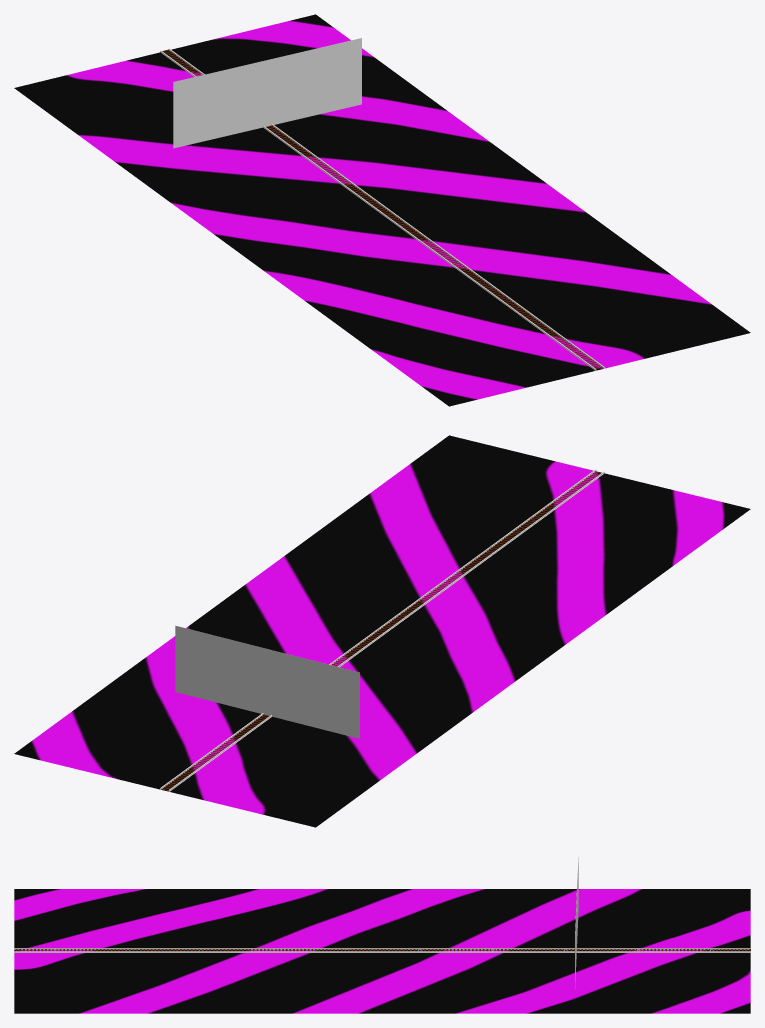
Rendered from CHAO E TRILHO.fbx.
The picture shows the model from 3 angles, top to bottom: view 1: azimuth 30°, elevation 25°; view 2: azimuth 150°, elevation 25°; view 3: azimuth 270°, elevation 25°; orthographic projection. The views are drawn at different scales.
Visible parts, largest first — view 1: Plane, Cube, metal_triho, madeira_trilho; view 2: Plane, Cube, metal_triho, madeira_trilho; view 3: Plane, metal_triho, madeira_trilho, Cube.
Boxes of the visible parts, left/top/right/bottom form: Plane: left=14, top=14, right=750, bottom=406; Cube: left=173, top=38, right=361, bottom=148; metal_triho: left=160, top=48, right=604, bottom=370; madeira_trilho: left=162, top=49, right=602, bottom=368; Plane: left=14, top=435, right=750, bottom=827; Cube: left=175, top=625, right=359, bottom=738; metal_triho: left=160, top=469, right=604, bottom=791; madeira_trilho: left=161, top=471, right=601, bottom=790; Plane: left=14, top=889, right=750, bottom=1013; metal_triho: left=14, top=948, right=750, bottom=952; madeira_trilho: left=16, top=949, right=750, bottom=951; Cube: left=575, top=856, right=578, bottom=989.
Bounding box in the file's own units: 72797 × 18914 × 181909.
3 materials, 2 textured.
